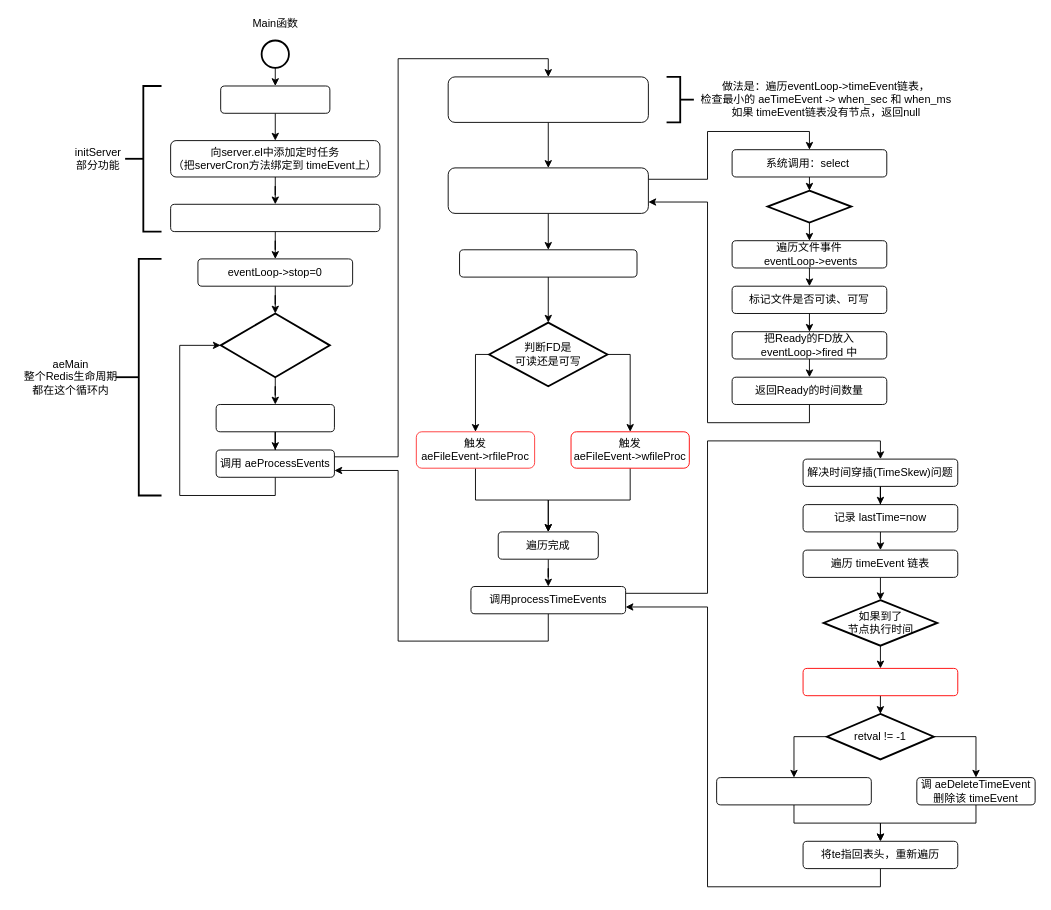
Image size: 1051x910. Some labels were removed from this diagram. Each missing label, with the box of its shape:
!eventLoop->stop: (219, 312, 330, 378)
retval >0: (766, 189, 852, 223)
创建server.el对象: (220, 85, 330, 113)
向server.el中添加文件事件（TCP连接）: (170, 203, 380, 232)
触发 te->timeProc 返回执行时间间隔 retval: (802, 667, 958, 696)
调 aeApiPoll, 把Ready的FD放入eventLoop->fire链表 并返回Ready个数: (447, 167, 648, 213)
调 aeSearchNearestTimer 返回最近要执行的timeEvent的执行时间: (447, 76, 648, 122)
调aeAddMillisecondsToNow 更新下次执行时间: (716, 777, 871, 805)
调用 beforesleep: (215, 404, 334, 432)
遍历 eventLoop->fired链表元素: (459, 249, 637, 277)
